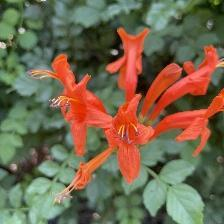honeysuckle: (104, 93, 155, 187)
